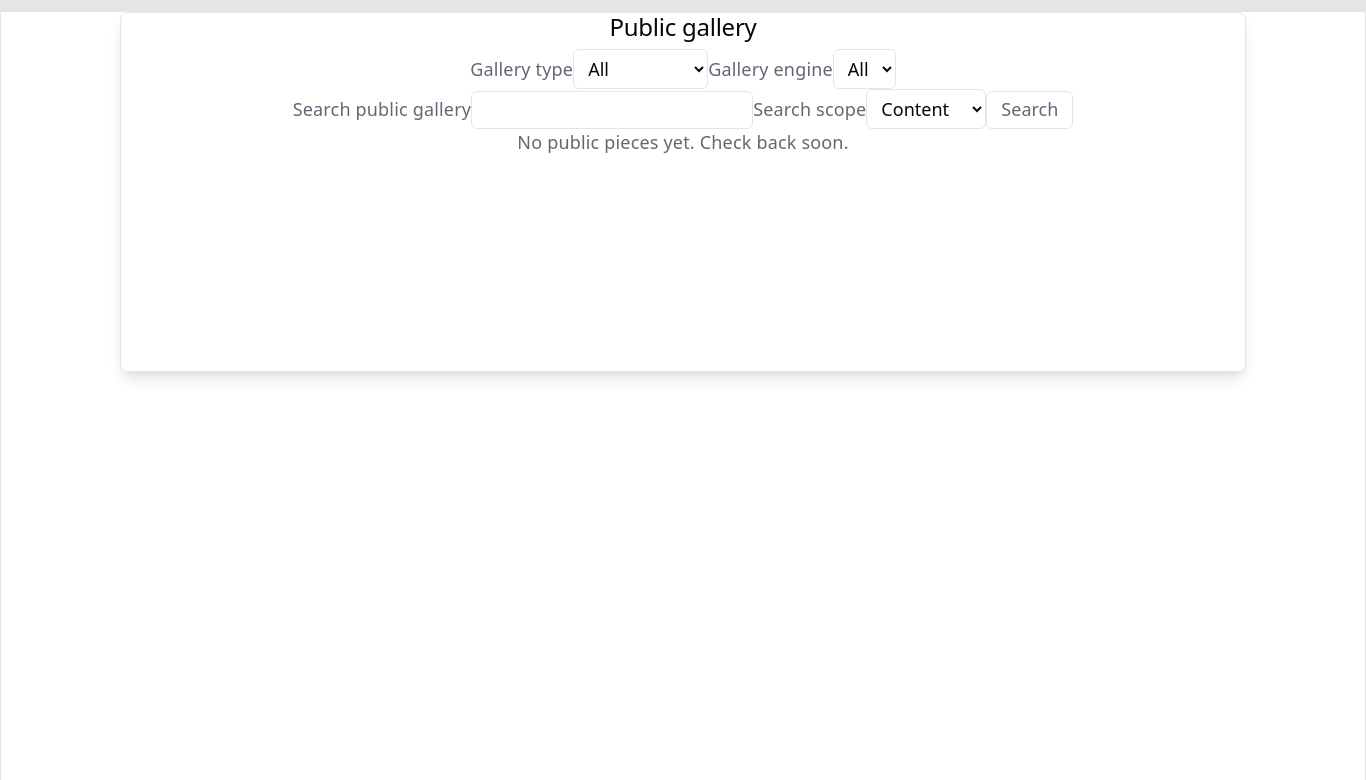
PublicGallery search (#581) › defaults the search scope to Content and submits a content-scope search
Expected: the dropdown labelled "Search scope" shows "Content", [866,89,986,129]
Type "sunset" into the search field labelled "Search public gallery" at [612, 110], box [471,91,753,129]
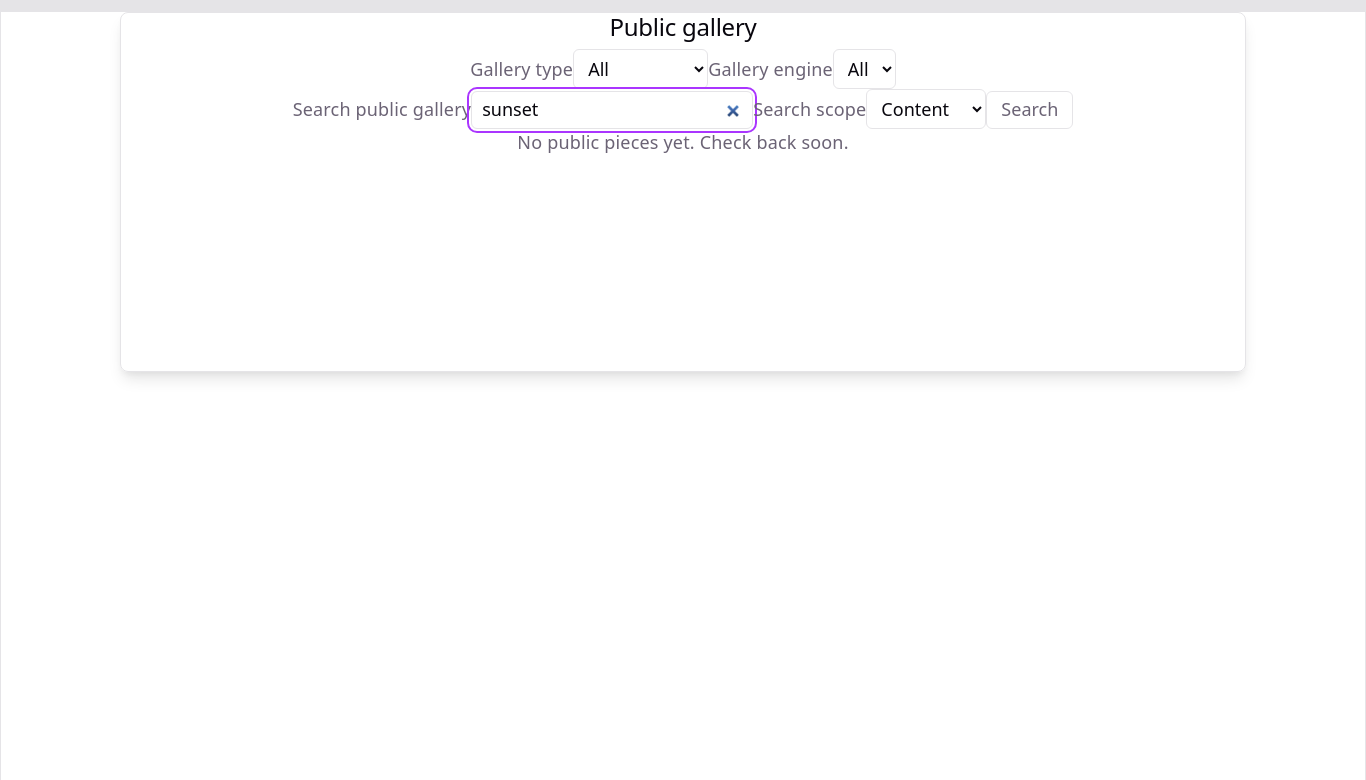
Click the button "Search" at [1030, 110], box [986,91,1073,129]
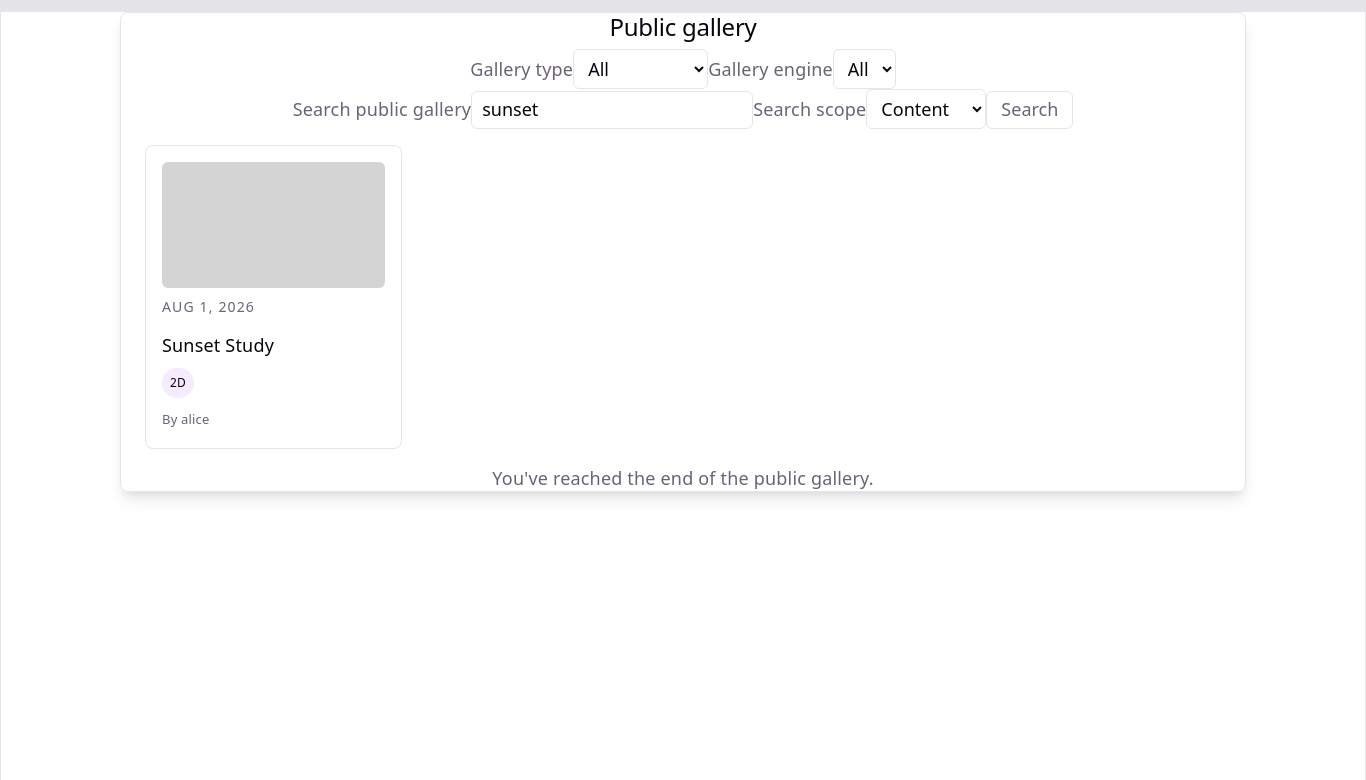
Now the heading "Sunset Study" is shown, box [162,333,274,357]
